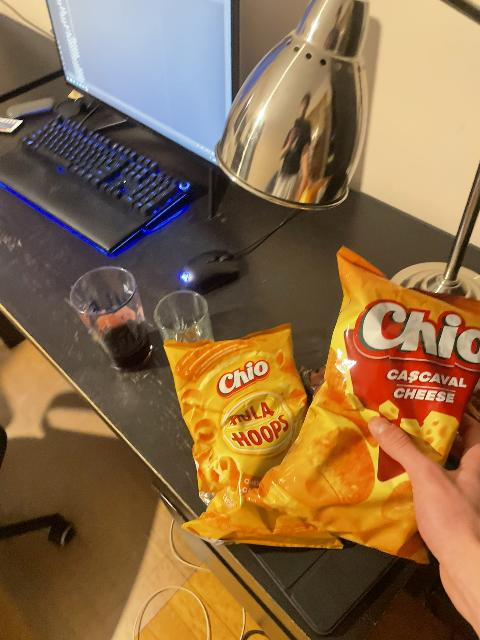Chio Cascaval 125g: (241, 246, 474, 565)
Chio Hula Hoops Cheese 70g: (162, 325, 338, 548)
